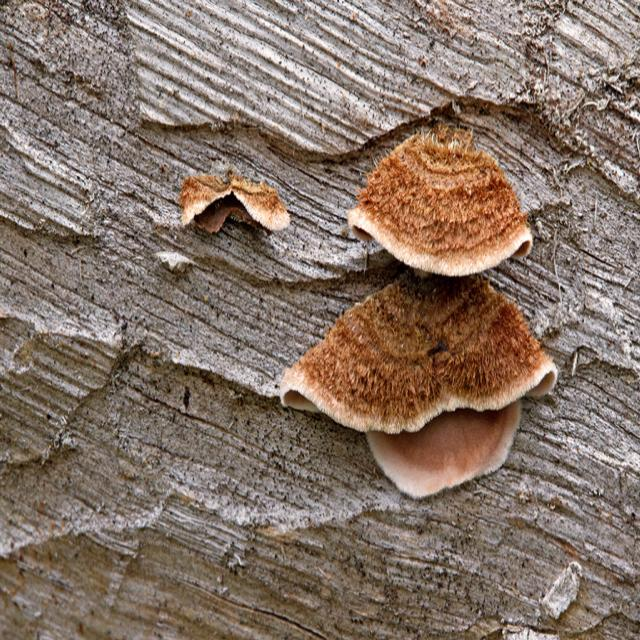Mushroom: (278, 274, 560, 500), (333, 134, 543, 306), (179, 170, 291, 236)
